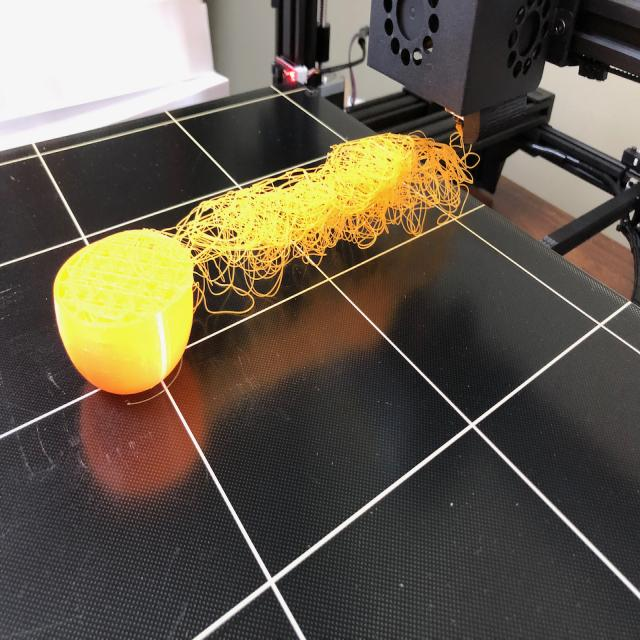spaghetti: (165, 125, 490, 312)
